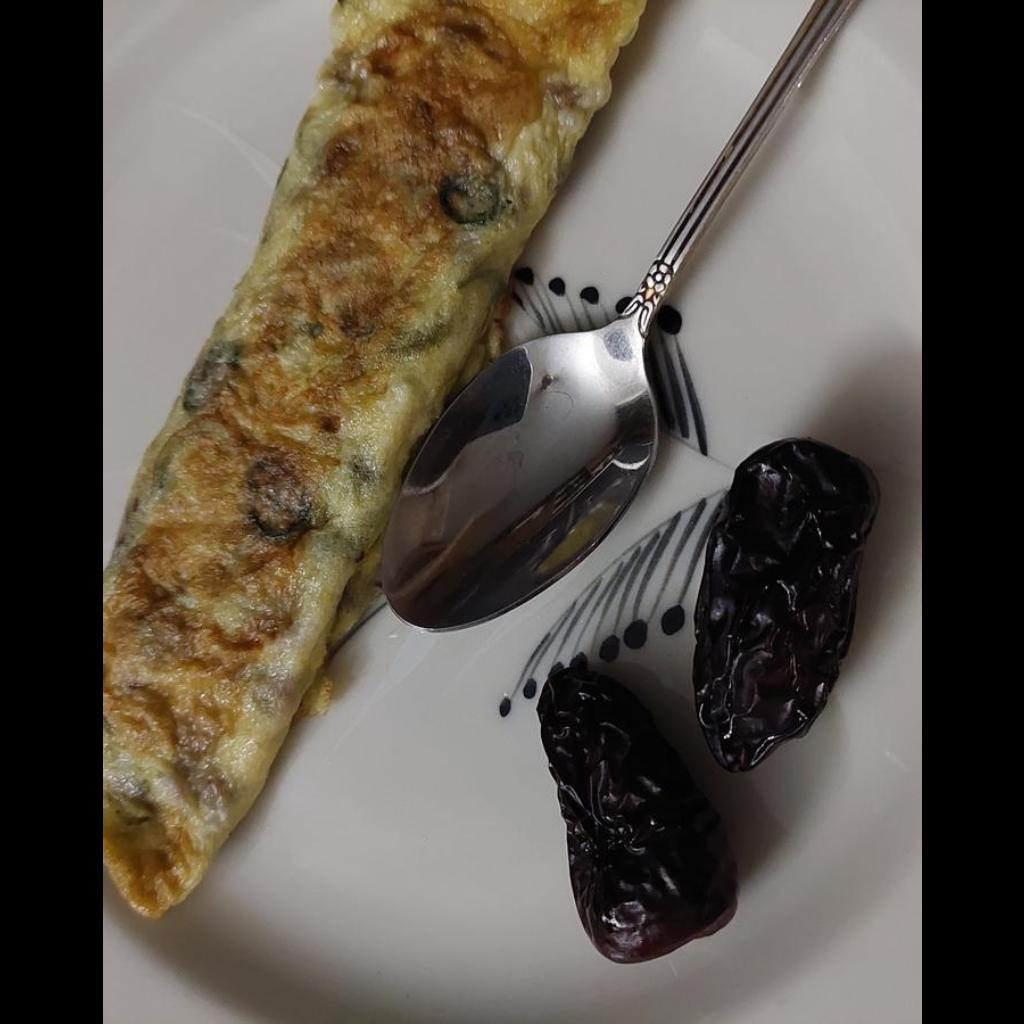dates: (537, 434, 877, 960)
egg-poached: (102, 1, 652, 914)
